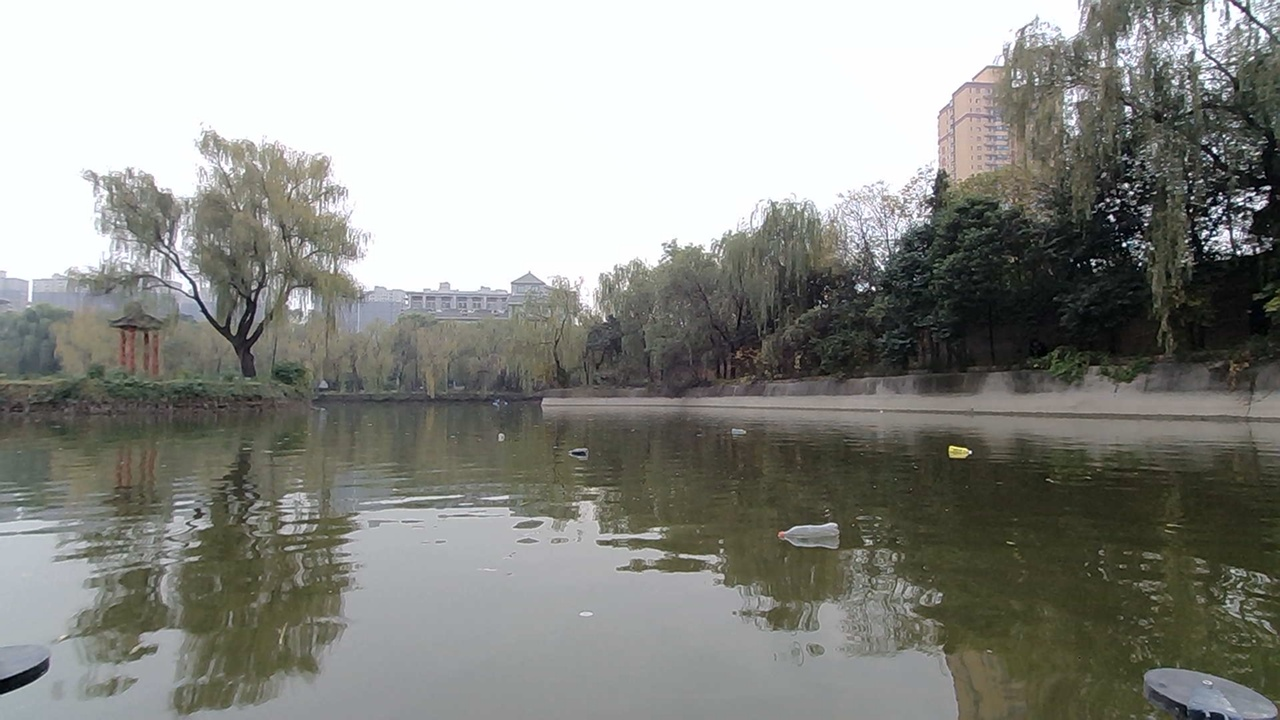bottle: (774, 493, 851, 562), (566, 429, 610, 469), (942, 432, 975, 466), (494, 415, 531, 445), (725, 419, 760, 441)
